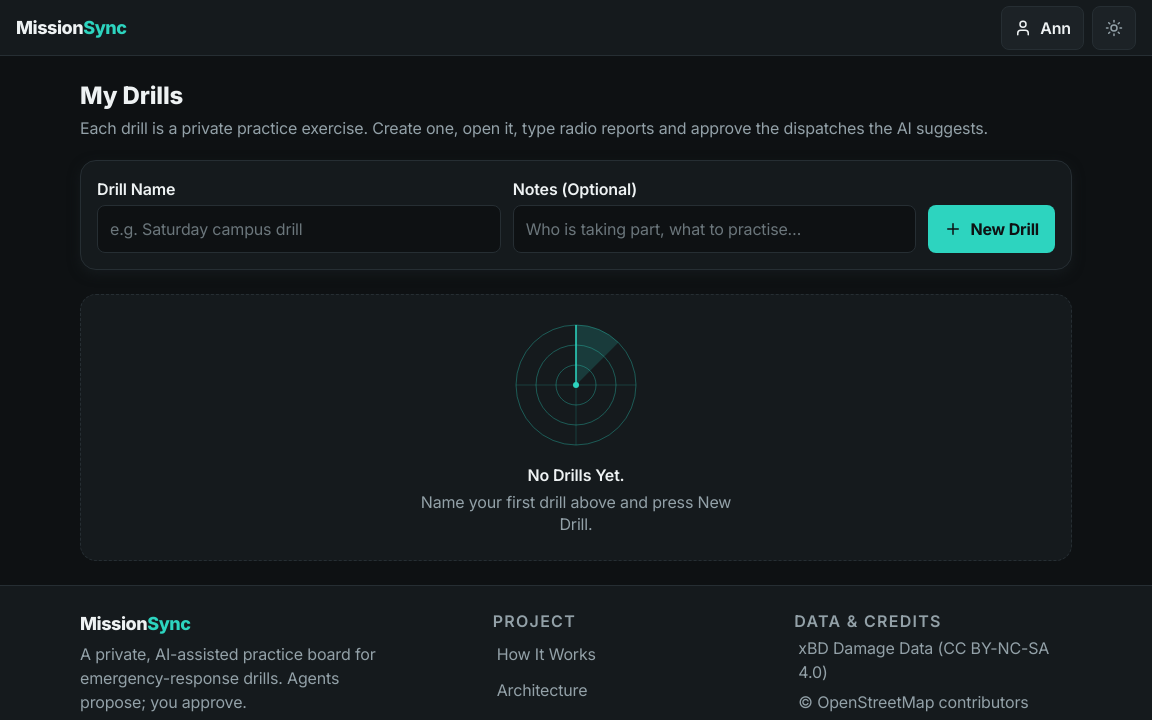
Scenario: My Drills — create, read, update, delete with optimistic UI › create: validation shows inline, and a server refusal rolls the card back and keeps what you typed
expect the text "No Drills Yet." is shown: met, box x1=527 y1=465 x2=624 y2=485
Click the button "New Drill" at [992, 229], box x1=928 y1=205 x2=1055 y2=253
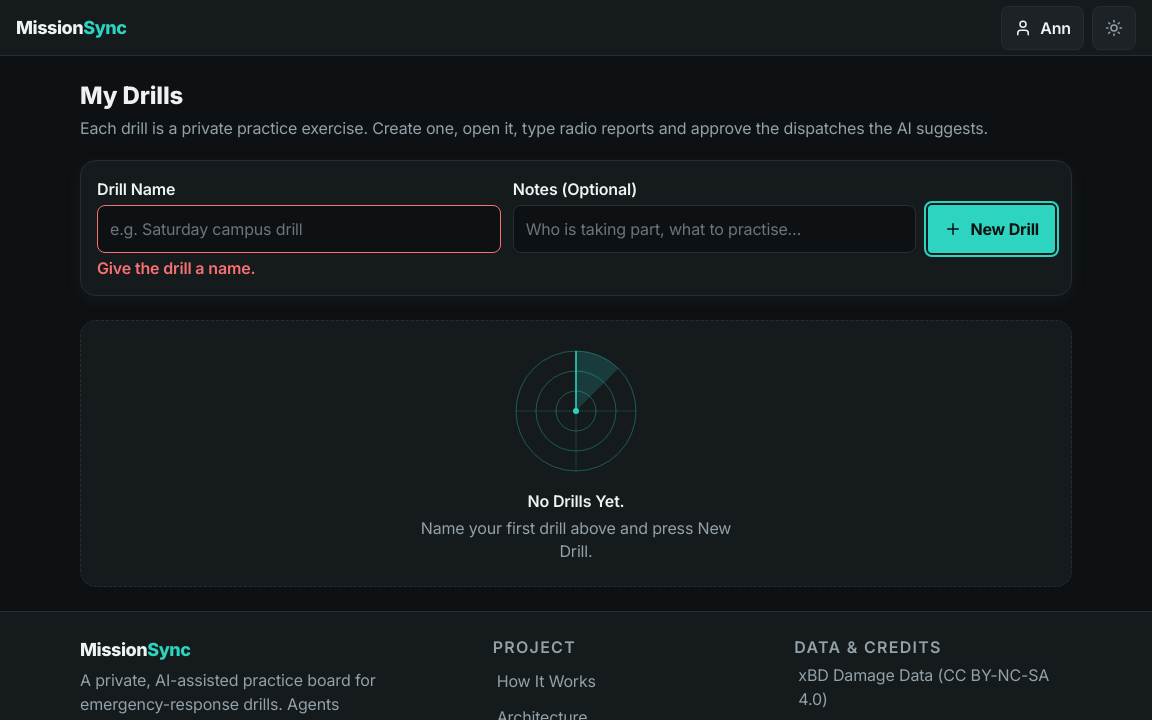
expect the text "Give the drill a name." is shown: met, box x1=97 y1=258 x2=255 y2=278
Type "Too many" into the field labelled "Drill Name" at [299, 229], box x1=97 y1=205 x2=501 y2=253
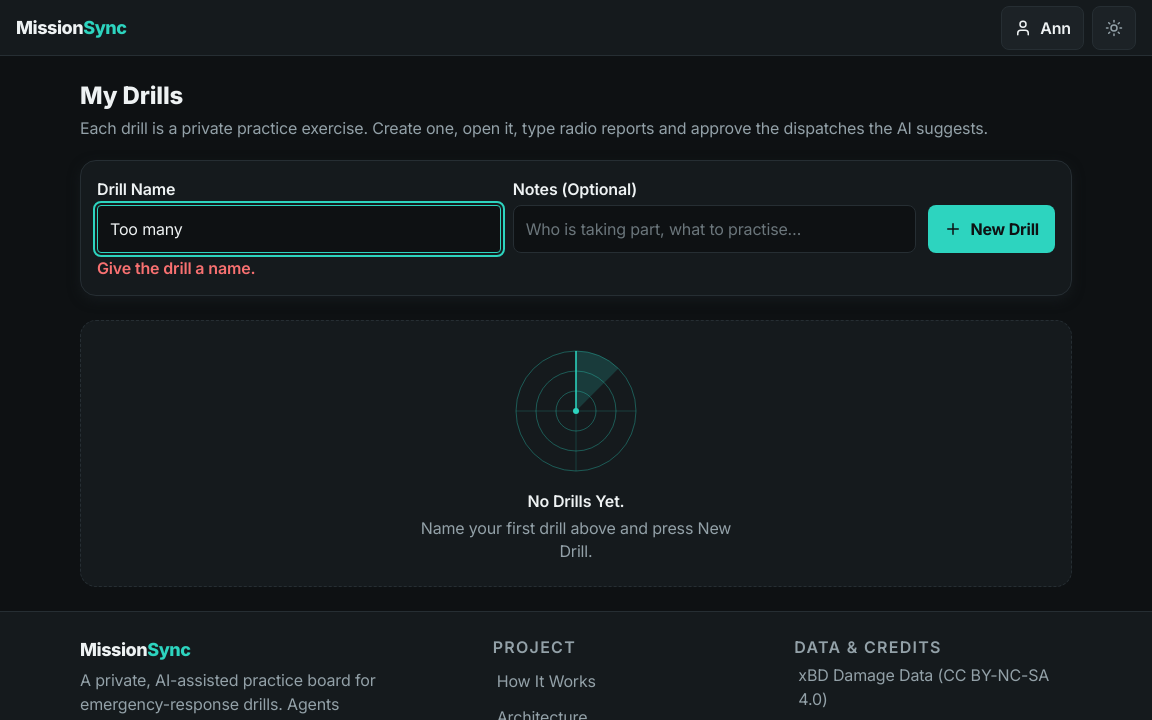
Click the button "New Drill" at [992, 229], box x1=928 y1=205 x2=1055 y2=253
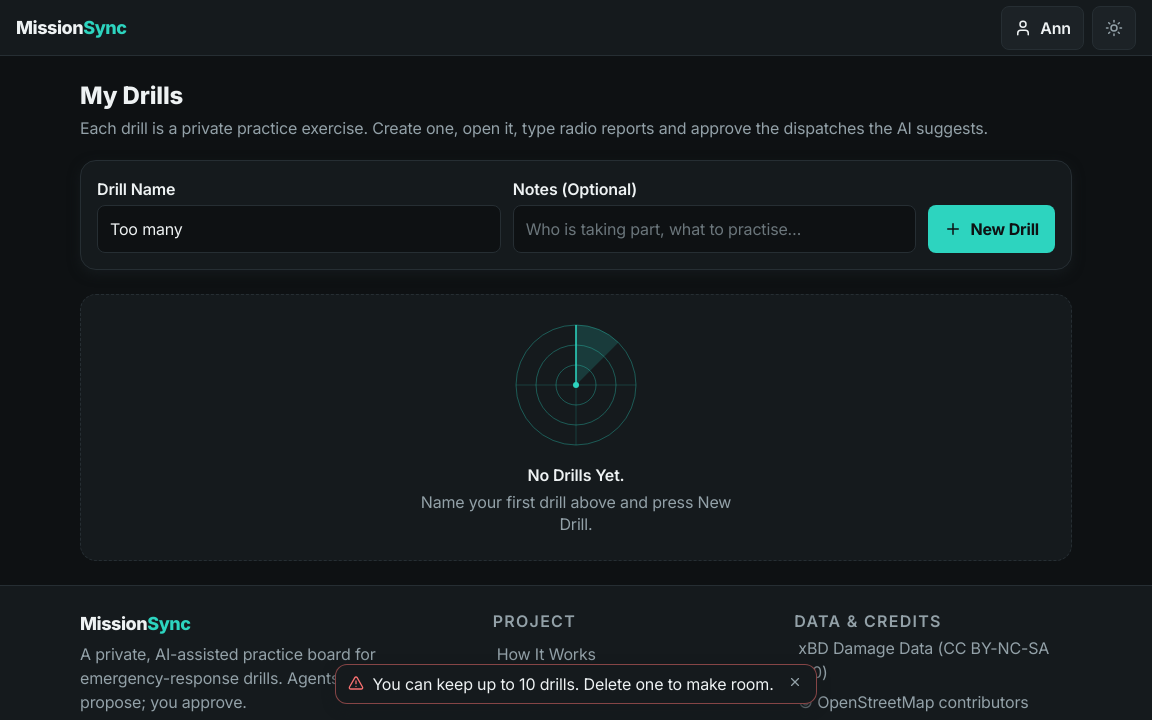
expect the text "You can keep up to 10 drills. Delete one to make room." is shown: met, box x1=372 y1=673 x2=774 y2=695
